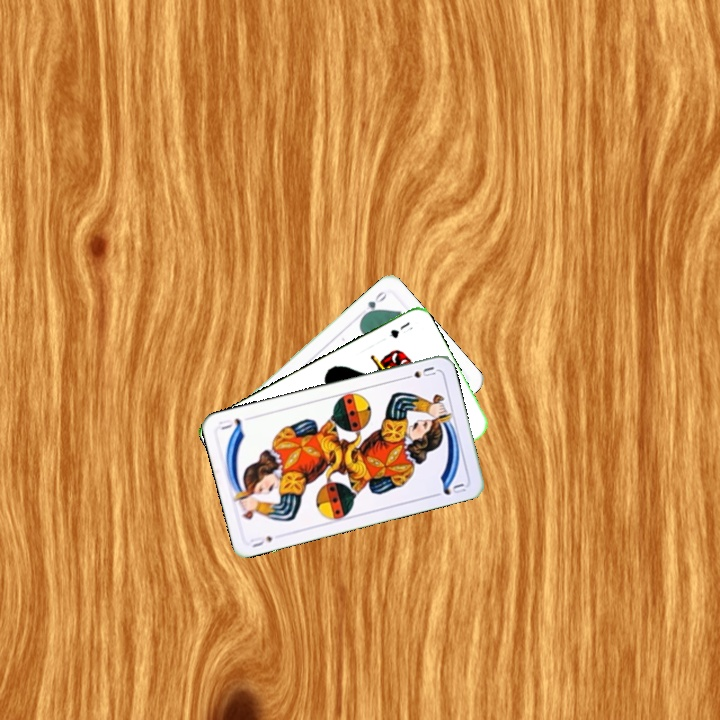GO: (358, 287, 389, 320)
GU: (385, 318, 413, 341)
SU: (399, 362, 438, 382), (246, 532, 275, 550)
